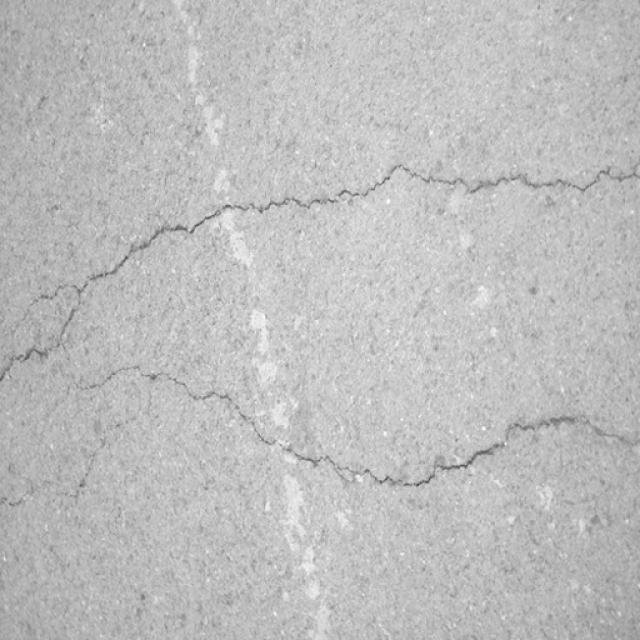SurfaceCrack: (1, 128, 640, 342)
